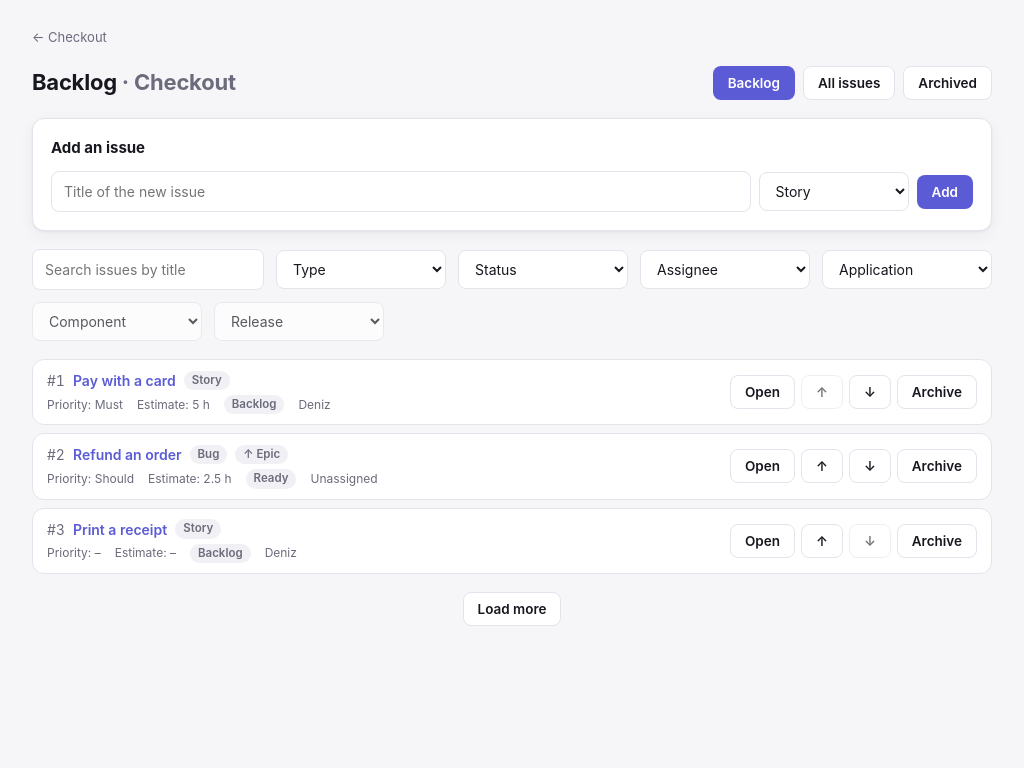
Test: the backlog: the list › loads more with the cursor and appends
Click the button "Load more": (512, 609) x1=462 y1=592 x2=562 y2=626
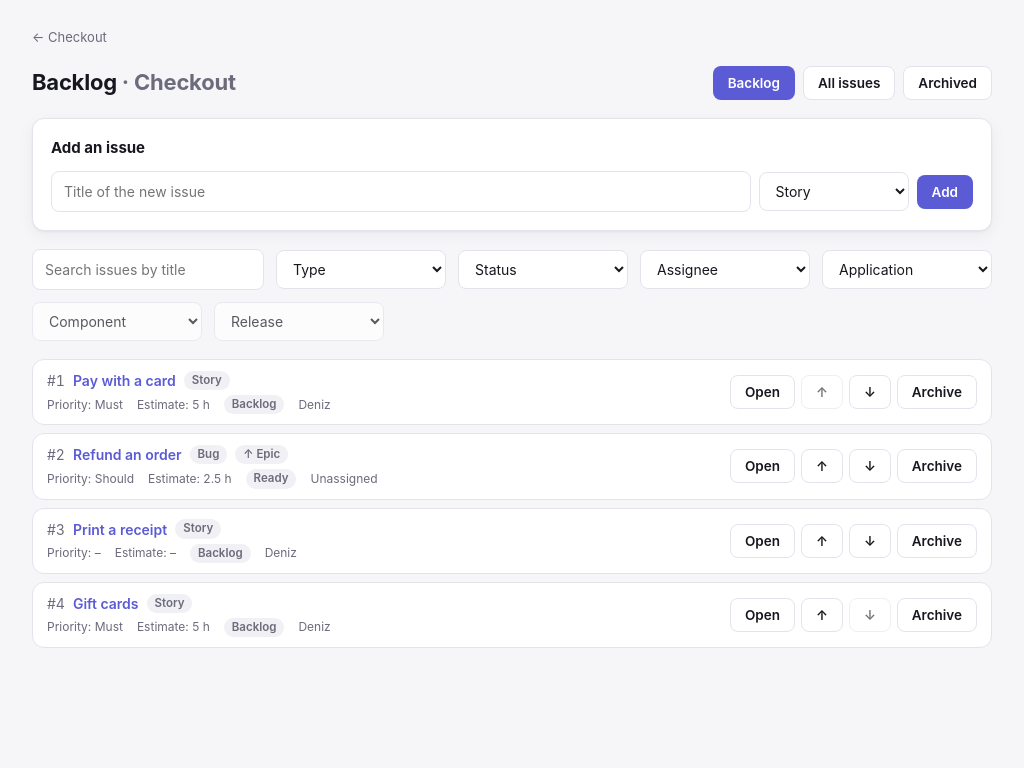
Check: the link "Gift cards" is shown, box x1=73 y1=593 x2=138 y2=614
Check: the button "Load more" is gone
